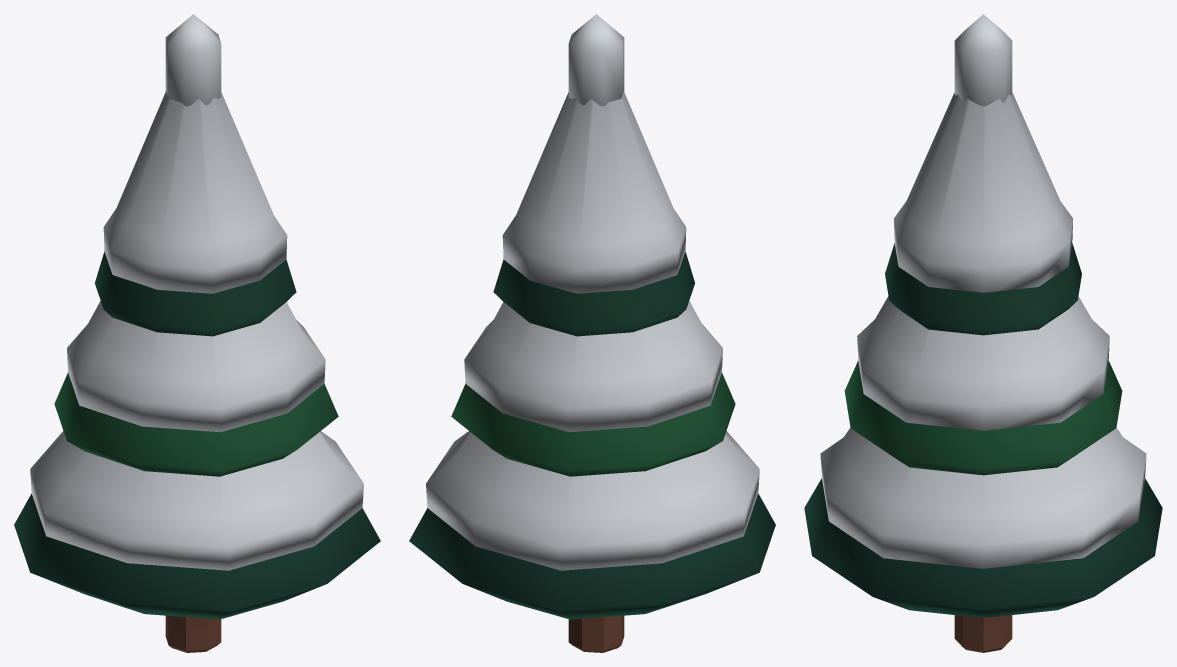
File: pine_snow.glb
The picture shows the model from 3 angles, left to right: view 1: azimuth 30°, elevation 25°; view 2: azimuth 150°, elevation 25°; view 3: azimuth 270°, elevation 25°; orthographic projection.
Visible parts, largest first — view 1: pine_snow; view 2: pine_snow; view 3: pine_snow.
Boxes of the visible parts, box(x1,y1,x2,y2) form: pine_snow: box(14, 14, 380, 652); pine_snow: box(409, 14, 775, 652); pine_snow: box(804, 14, 1162, 652).
Size of the model in its own units: 3.19 by 6 by 3.1.
